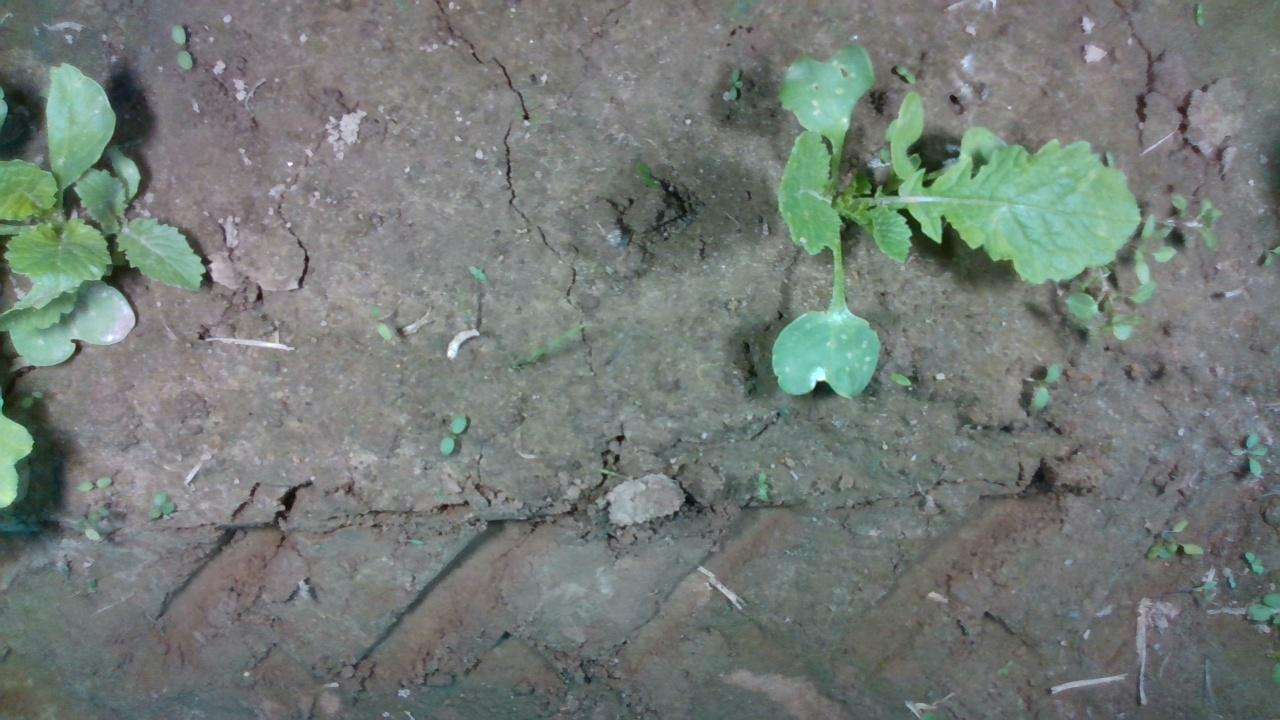weed: (1226, 428, 1267, 477), (1030, 360, 1061, 412), (437, 412, 468, 457), (169, 23, 194, 69), (145, 489, 176, 519), (73, 474, 113, 492), (724, 64, 743, 101), (1243, 548, 1265, 576), (892, 62, 916, 86)
